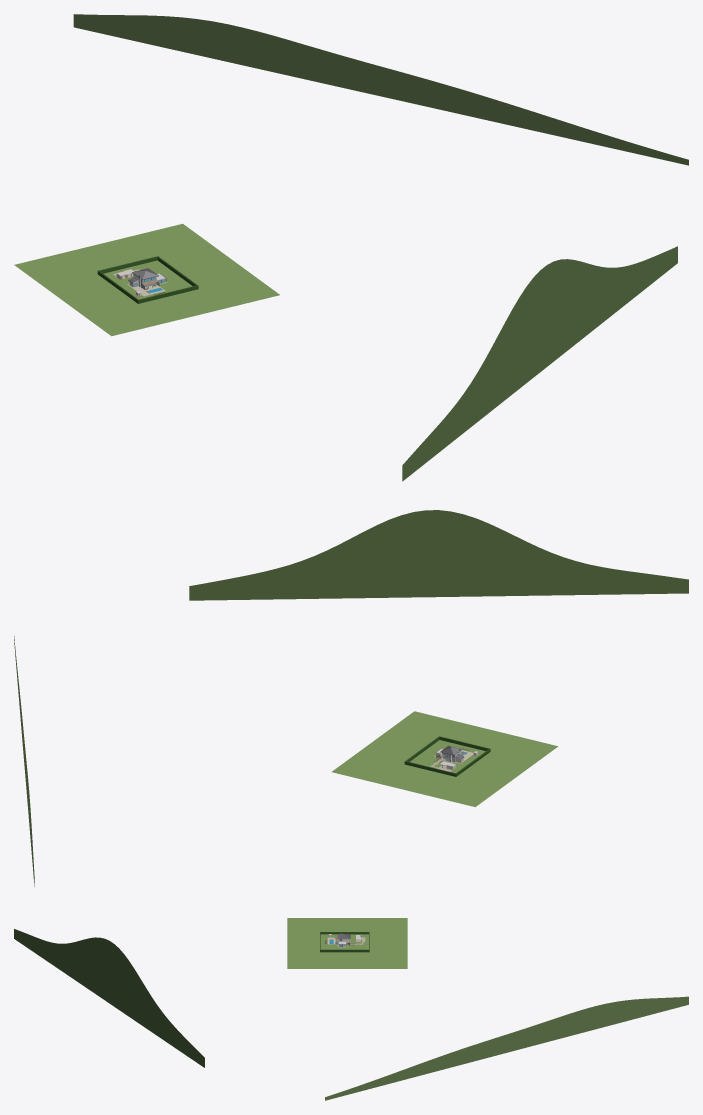
3 renders of one model, top to bottom at view 1: azimuth 30°, elevation 25°; view 2: azimuth 150°, elevation 25°; view 3: azimuth 270°, elevation 25°, orthographic. The views are drawn at different scales.
Visible parts, largest first — view 1: Z_far, Z_ground; view 2: Z_far, Z_ground; view 3: Z_far, Z_ground.
Part boxes in pixels (box(x1,y1,x2,y2)): Z_far: box(14, 14, 688, 481); Z_ground: box(98, 256, 197, 300); Z_far: box(14, 510, 688, 886); Z_ground: box(405, 736, 490, 773); Z_far: box(14, 918, 688, 1100); Z_ground: box(320, 932, 369, 949).
Bounding box in the file's own units: 504 × 82.18 × 786.
